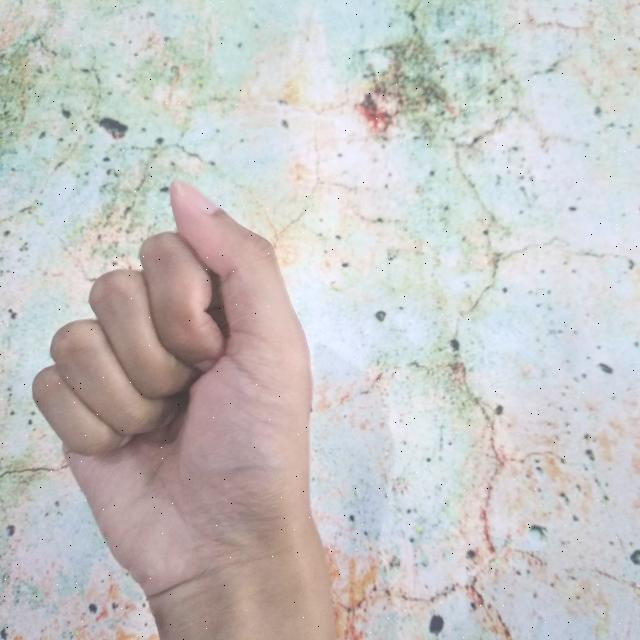A: (27, 170, 343, 640)
